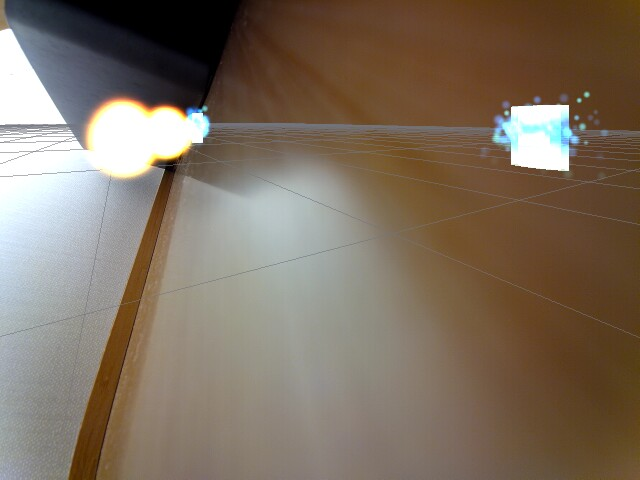fire: (86, 98, 156, 179), (148, 103, 194, 160)
